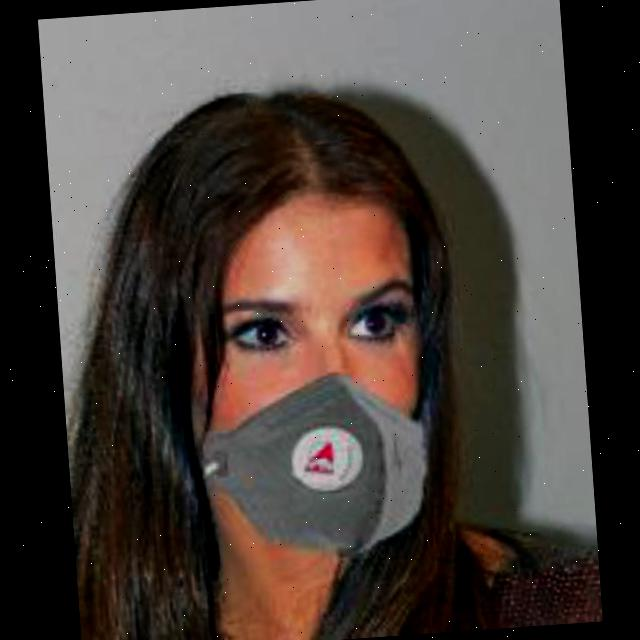suspicion: (67, 62, 430, 602)
